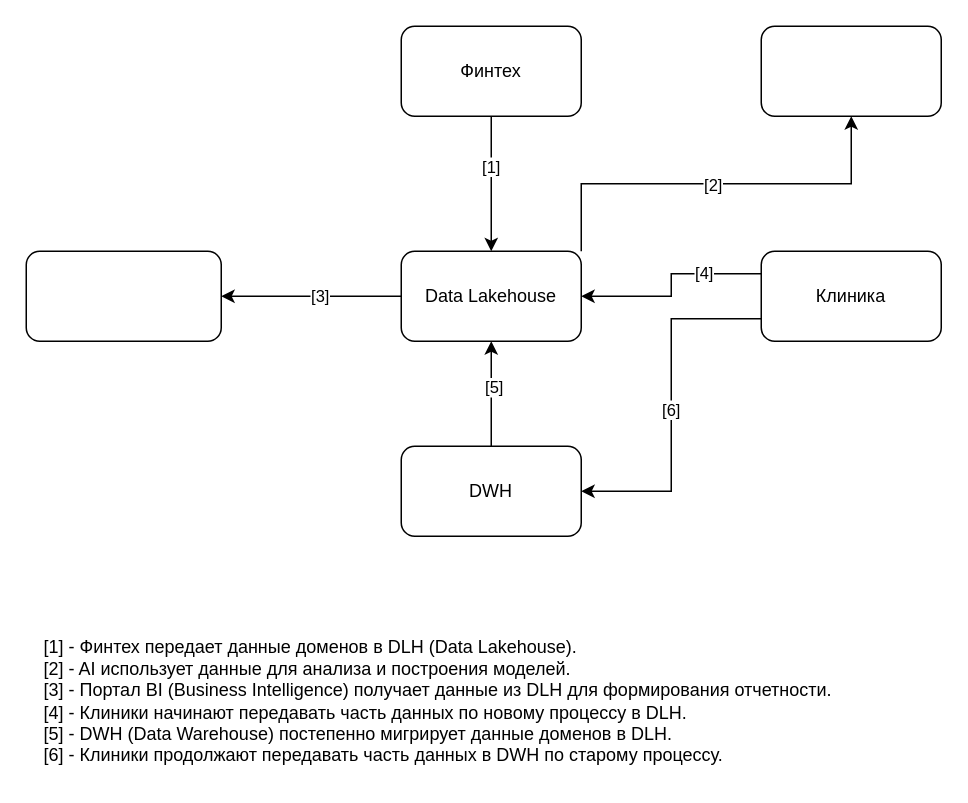
Some shapes in this 968 by 803 pixel diagram are drawn without their labels. The box of each missing label's shape, as (x1, y1, x2, y2) in pixels:
AI: (760, 25, 941, 116)
BI Портал самообслуживания: (25, 250, 221, 341)
